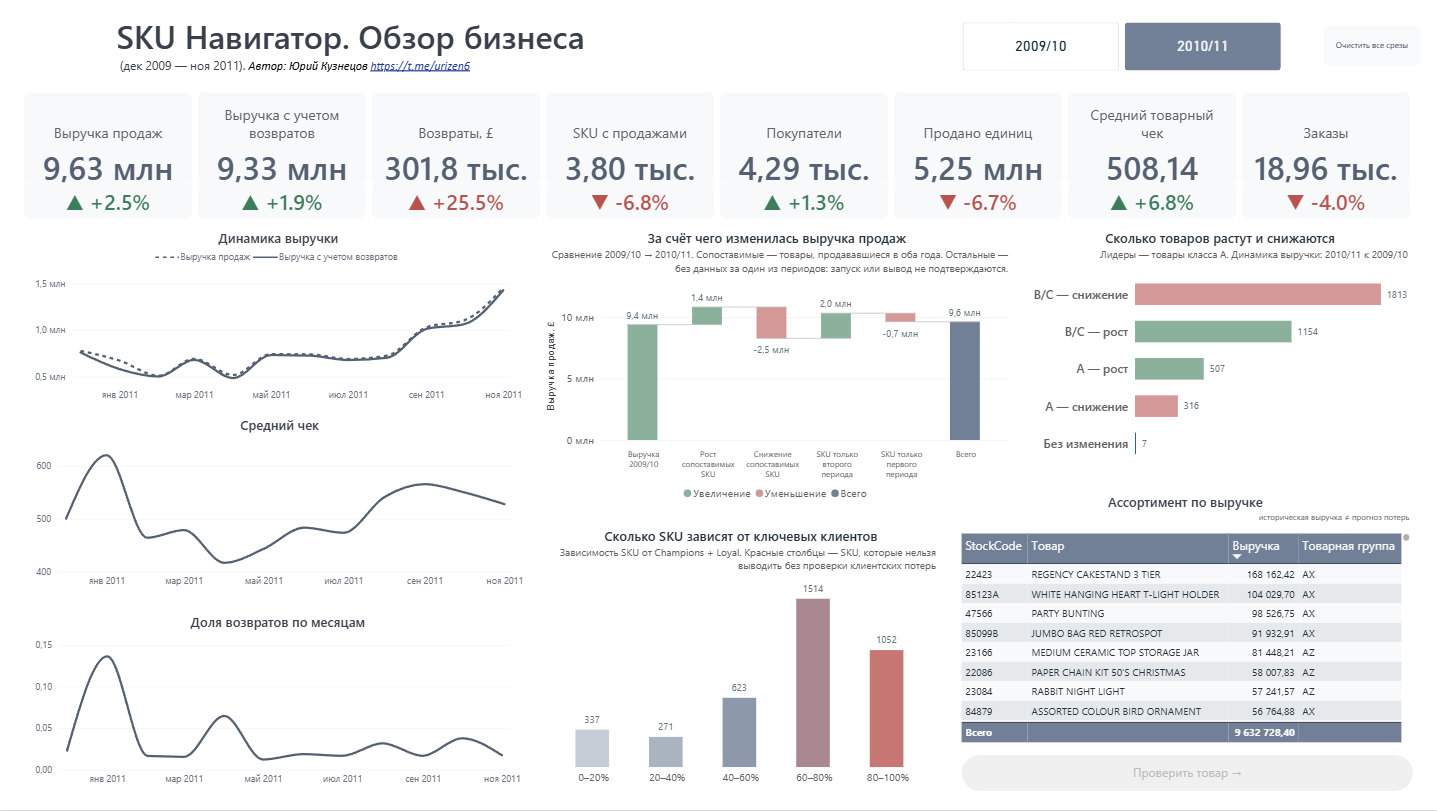

What the dashboard file says about the page in this screenshot:
{"tool":"powerbi","page":{"name":"Обзор магазина","canvas":[1920,1080],"ordinal":0},"visuals":[{"type":"textbox","box":[156,0,672,110],"z":0},{"type":"actionButton","box":[1766,34,127.8,54.4],"z":1000},{"type":"lineChart","title":"Динамика выручки","fields":{"Category":["DimDate.Date.Изменение.Date Hierarchy.Year","DimDate.Date.Изменение.Date Hierarchy.Quarter","DimDate.Date.Изменение.Date Hierarchy.Month"],"Y":["_Measures.Revenue Sales","_Measures.Net Revenue"]},"box":[32,292,682,336],"z":2000},{"type":"lineChart","title":"Средний чек","fields":{"Category":["DimDate.Date.Изменение.Date Hierarchy.Year","DimDate.Date.Изменение.Date Hierarchy.Month"],"Y":["_Measures.AOV"]},"box":[32,644,682,212],"z":3000},{"type":"advancedSlicerVisual","fields":{"Values":["DimPeriod.Period"]},"box":[1284.2,29.6,424,64],"z":4000},{"type":"tableEx","title":"Ассортимент по выручке","fields":{"Values":["MartSkuPeriod.StockCode","MartSkuPeriod.ProductName","Sum(MartSkuPeriod.revenue)","MartSkuPeriod.ABC_XYZ"]},"box":[1266,644,630,362],"z":5000},{"type":"lineChart","title":"Доля возвратов по месяцам","fields":{"Category":["DimDate.Date.Изменение.Date Hierarchy.Year","DimDate.Date.Изменение.Date Hierarchy.Quarter","DimDate.Date.Изменение.Date Hierarchy.Month","DimDate.Date.Изменение.Date Hierarchy.Day"],"Y":["_Measures.Returns %"]},"box":[34,856,680,208],"z":6000},{"type":"waterfallChart","title":"За счёт чего изменилась выручка продаж","fields":{"Category":["WaterfallSteps.Step"],"Y":["_Measures.WF Value"]},"box":[714,292,648,396],"z":7000},{"type":"clusteredBarChart","title":"Сколько товаров растут и снижаются","fields":{"Category":["MartSkuPeriod.BCG_adapted"],"Y":["_Measures.BCG SKU Count"]},"box":[1361.4,291.4,532.9,351.4],"z":8000},{"type":"columnChart","title":"Сколько SKU зависят от ключевых клиентов","fields":{"Category":["MartSkuPeriod.Client Dependency"],"Y":["CountNonNull(MartSkuPeriod.StockCode)"]},"box":[714,688,552,378],"z":9000},{"type":"actionButton","box":[1284,1006,602,48],"z":10000},{"type":"cardVisual","fields":{"Data":["_Measures.Revenue Sales","_Measures.Net Revenue","_Measures.Returns Amount","_Measures.SKU Sold","_Measures.Customers","_Measures.Units Sold","_Measures.AOV","_Measures.Orders"]},"box":[34,124,1852,144],"z":11000},{"type":"cardVisual","fields":{"Data":["_Measures.YoY Revenue","_Measures.YoY Net Revenue","_Measures.YoY Returns","_Measures.YoY SKU","_Measures.YoY Customers","_Measures.YoY Units","_Measures.YoY AOV","_Measures.YoY Orders"]},"box":[34,244,1852,48],"z":12000}]}

Visuals, with their boxes in screenshot pixels (x1, y1, x2, y2), scaled from the page's 1920x1080 canvas onto the 1437x811 screenshot:
textbox: (left=117, top=0, right=620, bottom=83)
actionButton: (left=1322, top=26, right=1417, bottom=66)
"Динамика выручки" lineChart: (left=24, top=219, right=534, bottom=472)
"Средний чек" lineChart: (left=24, top=484, right=534, bottom=643)
advancedSlicerVisual - DimPeriod.Period: (left=961, top=22, right=1278, bottom=70)
"Ассортимент по выручке" tableEx: (left=948, top=484, right=1419, bottom=755)
"Доля возвратов по месяцам" lineChart: (left=25, top=643, right=534, bottom=799)
"За счёт чего изменилась выручка продаж" waterfallChart: (left=534, top=219, right=1019, bottom=517)
"Сколько товаров растут и снижаются" clusteredBarChart: (left=1019, top=219, right=1418, bottom=483)
"Сколько SKU зависят от ключевых клиентов" columnChart: (left=534, top=517, right=948, bottom=800)
actionButton: (left=961, top=755, right=1412, bottom=791)
cardVisual - _Measures.Revenue Sales x _Measures.Net Revenue: (left=25, top=93, right=1412, bottom=201)
cardVisual - _Measures.YoY Revenue x _Measures.YoY Net Revenue: (left=25, top=183, right=1412, bottom=219)
